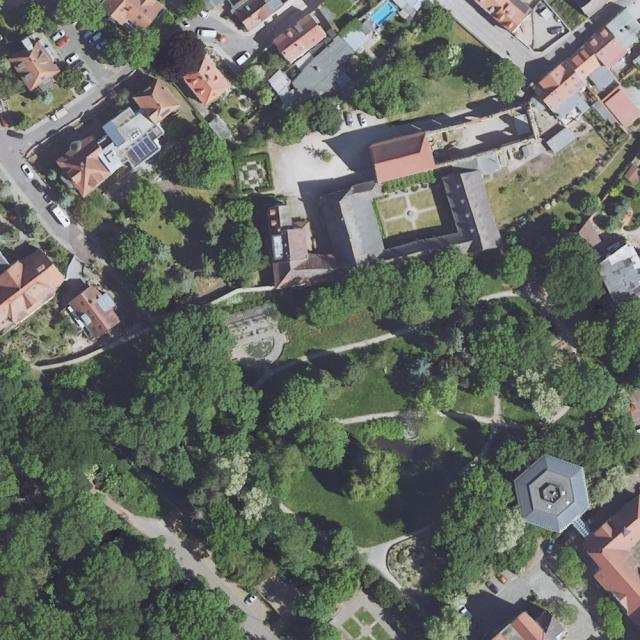PV: (128, 130, 158, 164)
